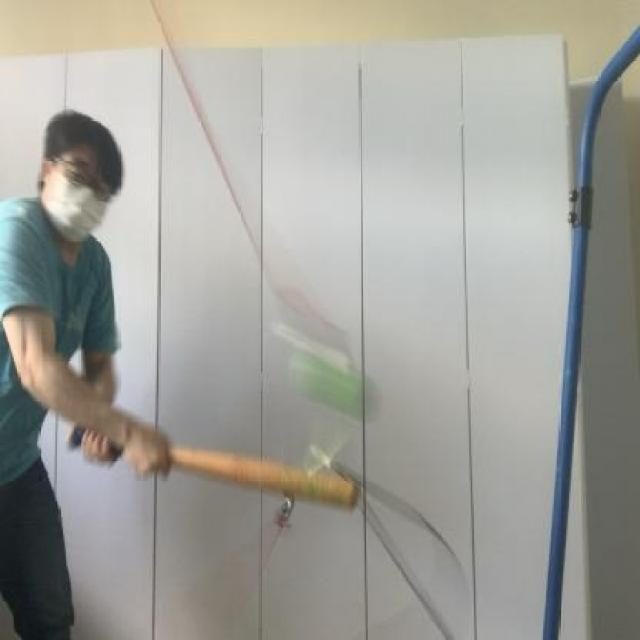baseball: (277, 344, 368, 418)
